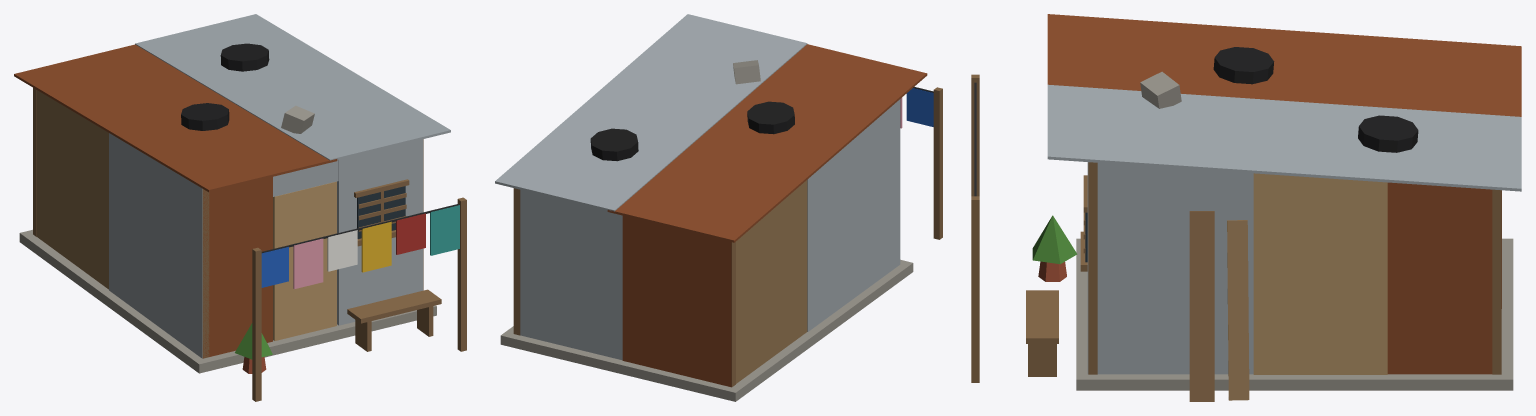
File: BAY_I_TinShack_F.glb
3 renders of one model, left to right at view 1: azimuth 30°, elevation 25°; view 2: azimuth 150°, elevation 25°; view 3: azimuth 270°, elevation 25°, orthographic. The views are drawn at different scales.
Visible parts, largest first — view 1: BAY_I_TinShack_F; view 2: BAY_I_TinShack_F; view 3: BAY_I_TinShack_F.
Part boxes in pixels (<box>): BAY_I_TinShack_F: <box>14,14,466,401</box>; BAY_I_TinShack_F: <box>495,14,942,401</box>; BAY_I_TinShack_F: <box>971,14,1521,401</box>.
Size of the model in its own units: 3.57 by 2.68 by 5.34.
1 material, 1 textured.
